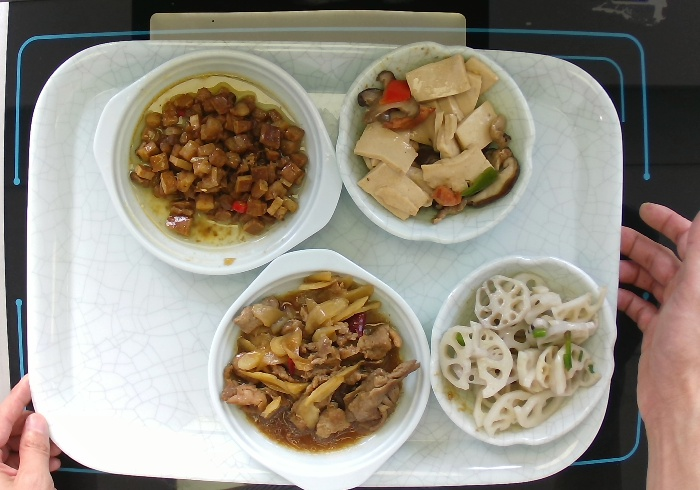JYsf-Ao_Yuan_Wan: (332, 38, 540, 246), (427, 251, 620, 450)
JYsf-Shuang_Er_Pan: (89, 45, 346, 280), (203, 244, 433, 490)
